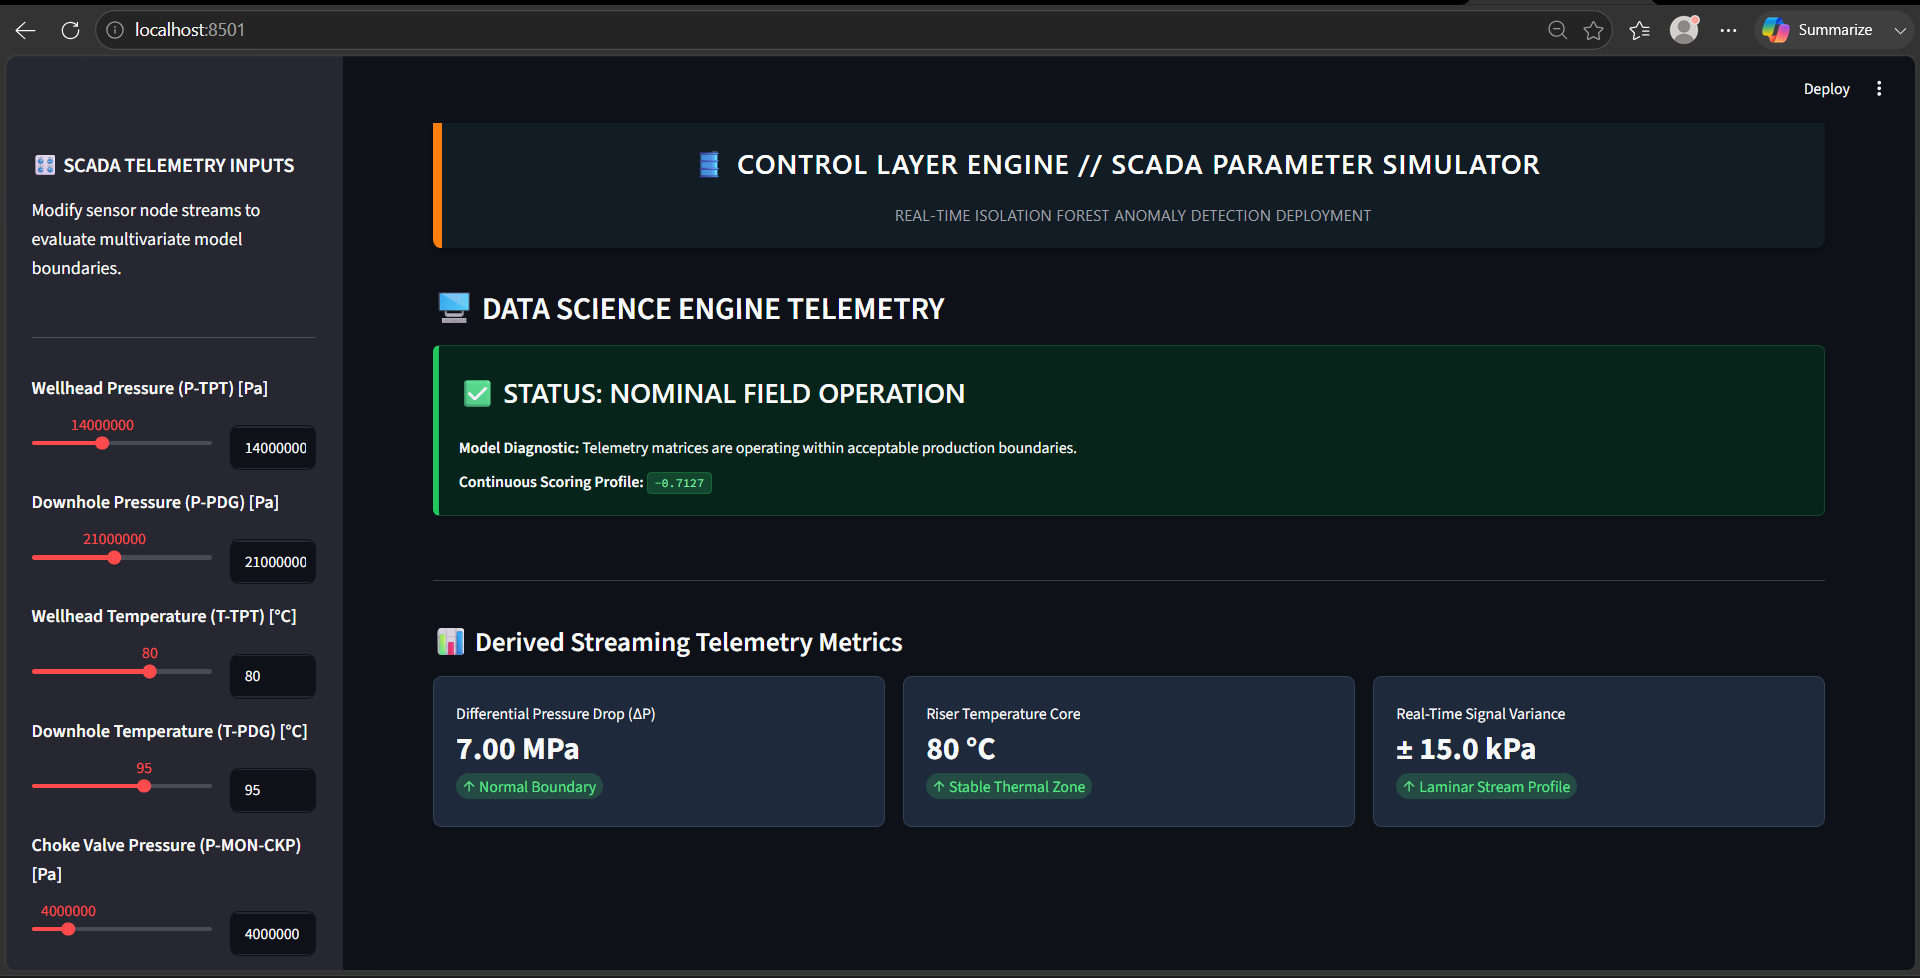

The dashboard page shown, as its layout file describes it:
{"tool":"powerbi","page":{"name":"Page 4","canvas":[1280,720],"ordinal":3},"visuals":[{"type":"shape","box":[0,0,1280,720],"z":0},{"type":"slicer","title":"Wellhead Pressure (P-TPT) [Pa]","fields":{"Values":["Simulated P-TPT.Simulated P-TPT"]},"box":[23.2,178.5,273.9,161.4],"z":1000},{"type":"slicer","title":"Downhole Pressure (P-PDG) [Pa]","fields":{"Values":["Simulated P-PDG.Simulated P-PDG"]},"box":[339.9,178.5,273.9,161.4],"z":2000},{"type":"slicer","title":"Wellhead Temperature (T-TPT) [°C]","fields":{"Values":["T-TPT.T-TPT"]},"box":[656.7,178.5,278.8,161.4],"z":3000},{"type":"slicer","title":"Pressure Volatility (Std Dev) [Pa]","fields":{"Values":["Simulated Volatility.Simulated Volatility"]},"box":[978.3,178.5,266.6,161.4],"z":4000},{"type":"cardVisual","fields":{"Data":["balanced_master_data.SCADA_Diagnostic_Alert"]},"box":[36.2,377.5,1208.8,273.8],"z":5000},{"type":"textbox","box":[23.3,30,1221.7,106.7],"z":6000}]}

Visuals, with their boxes on the page's 1280x720 design canvas (x1, y1, x2, y2). These are canvas units, not pixel positions in the 1920x978 screenshot, which may show the page scaled, cropped or inside an application window:
shape: <bbox>0, 0, 1280, 720</bbox>
"Wellhead Pressure (P-TPT) [Pa]" slicer: <bbox>23, 178, 297, 340</bbox>
"Downhole Pressure (P-PDG) [Pa]" slicer: <bbox>340, 178, 614, 340</bbox>
"Wellhead Temperature (T-TPT) [°C]" slicer: <bbox>657, 178, 936, 340</bbox>
"Pressure Volatility (Std Dev) [Pa]" slicer: <bbox>978, 178, 1245, 340</bbox>
cardVisual - balanced_master_data.SCADA_Diagnostic_Alert: <bbox>36, 378, 1245, 651</bbox>
textbox: <bbox>23, 30, 1245, 137</bbox>
